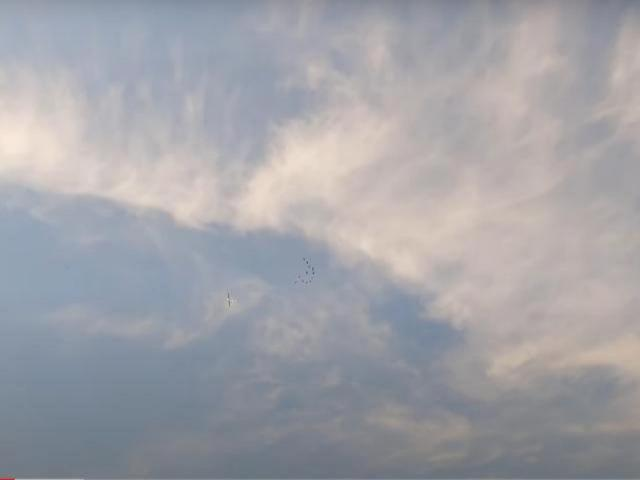iha: (226, 294, 233, 307)
